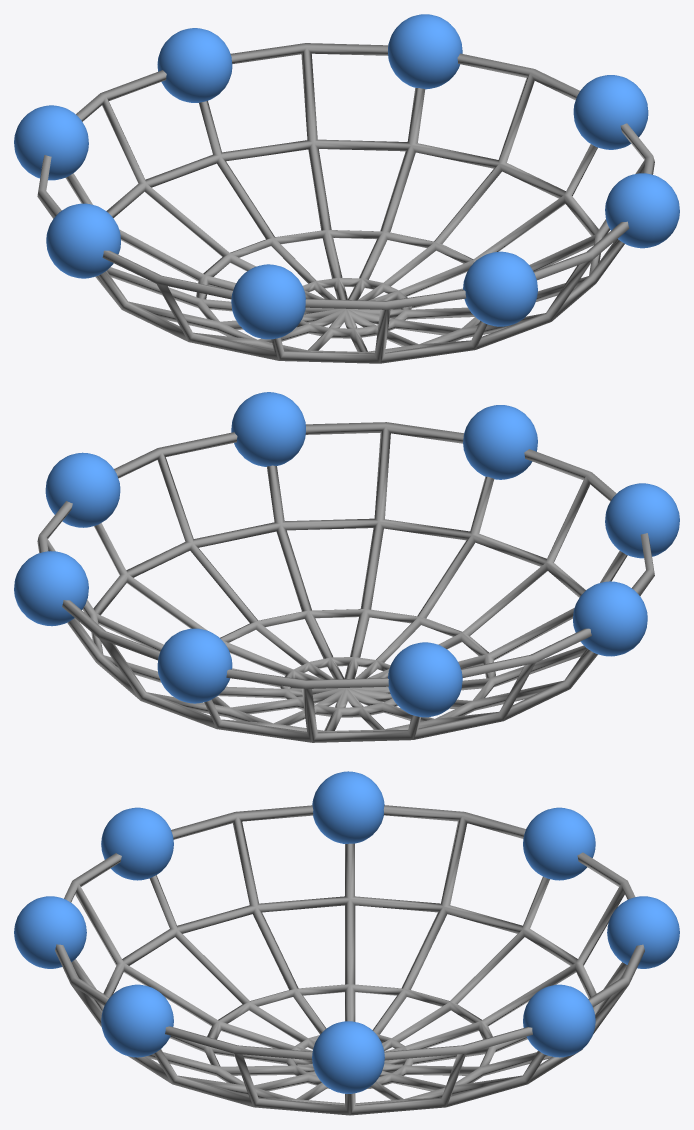
The model's file is net_bullet.fbx.
The picture shows the model from 3 angles, top to bottom: view 1: azimuth 30°, elevation 25°; view 2: azimuth 150°, elevation 25°; view 3: azimuth 270°, elevation 25°; orthographic projection. The views are drawn at different scales.
Visible parts, largest first — view 1: 球体, 球体.007, 球体.002, 球体.005, 球体.001, 球体.003, 球体.006, 球体.008, 球体.004; view 2: 球体, 球体.008, 球体.001, 球体.006, 球体.002, 球体.003, 球体.004, 球体.007, 球体.005; view 3: 球体, 球体.004, 球体.003, 球体.006, 球体.005, 球体.008, 球体.007, 球体.002, 球体.001.
Part boxes in pixels (bbox=[...]): 球体: bbox=[37, 43, 654, 363]; 球体.007: bbox=[231, 264, 305, 339]; 球体.002: bbox=[463, 251, 537, 326]; 球体.005: bbox=[388, 14, 462, 89]; 球体.001: bbox=[157, 28, 232, 102]; 球体.003: bbox=[46, 203, 120, 278]; 球体.006: bbox=[605, 173, 679, 248]; 球体.008: bbox=[14, 105, 88, 180]; 球体.004: bbox=[573, 75, 648, 149]; 球体: bbox=[37, 422, 654, 742]; 球体.008: bbox=[388, 642, 462, 717]; 球体.001: bbox=[157, 628, 232, 703]; 球体.006: bbox=[231, 392, 305, 466]; 球体.002: bbox=[463, 405, 537, 479]; 球体.003: bbox=[573, 581, 647, 656]; 球体.004: bbox=[45, 452, 120, 527]; 球体.007: bbox=[605, 483, 679, 558]; 球体.005: bbox=[14, 551, 88, 626]; 球体: bbox=[55, 805, 644, 1115]; 球体.004: bbox=[312, 1021, 384, 1093]; 球体.003: bbox=[312, 771, 384, 843]; 球体.006: bbox=[101, 984, 173, 1057]; 球体.005: bbox=[523, 984, 595, 1057]; 球体.008: bbox=[523, 807, 595, 880]; 球体.007: bbox=[101, 807, 173, 880]; 球体.002: bbox=[14, 896, 86, 968]; 球体.001: bbox=[607, 896, 679, 968].
Size of the model in its own units: 258 by 72.99 by 259.
